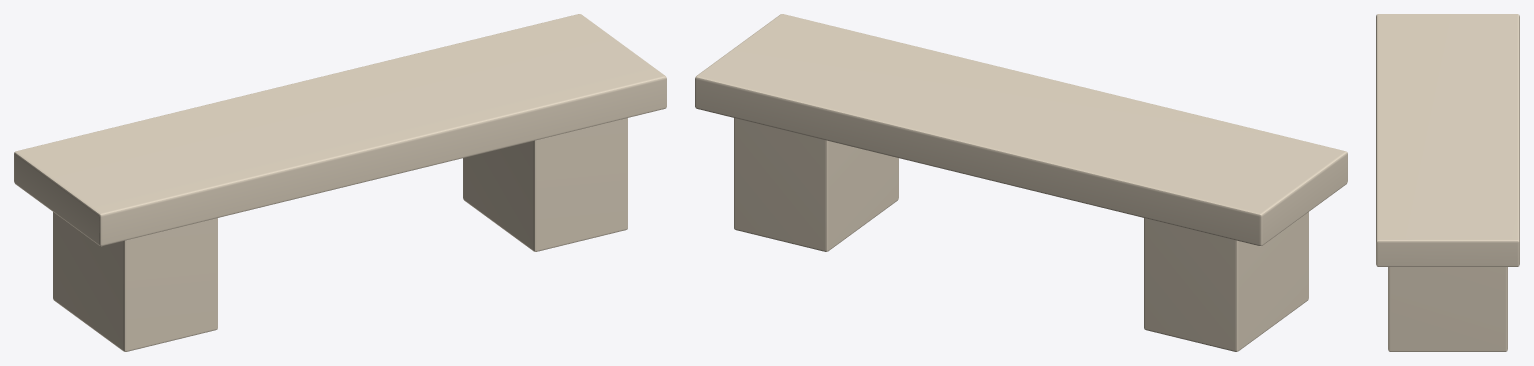
The model's file is prop_bench_stone.glb.
The picture shows the model from 3 angles, left to right: view 1: azimuth 30°, elevation 25°; view 2: azimuth 150°, elevation 25°; view 3: azimuth 270°, elevation 25°; orthographic projection. The views are drawn at different scales.
Parts seen in each view (by area): view 1: Bench; view 2: Bench; view 3: Bench.
Boxes of the visible parts, x1,y1,x2,y2 form: Bench: (14, 14, 666, 351); Bench: (695, 14, 1347, 351); Bench: (1376, 14, 1519, 351).
Size of what is drawn, in the model's own units: 1.8 by 0.46 by 0.48.
